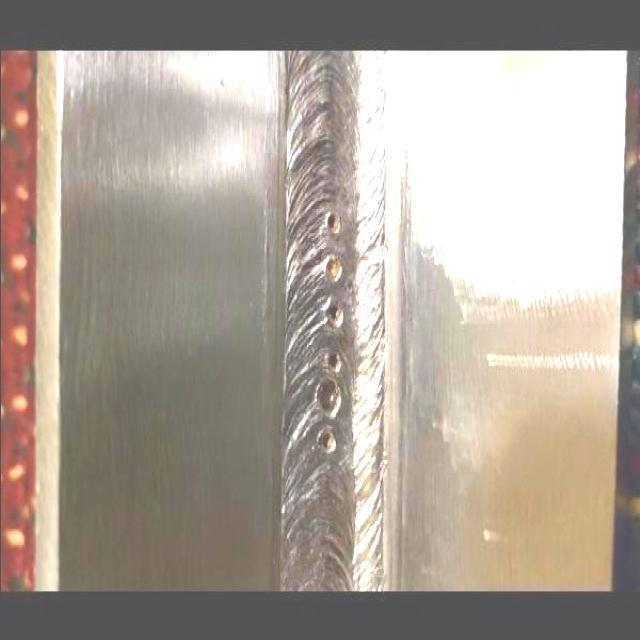Dry Waste: (263, 80, 384, 518)
